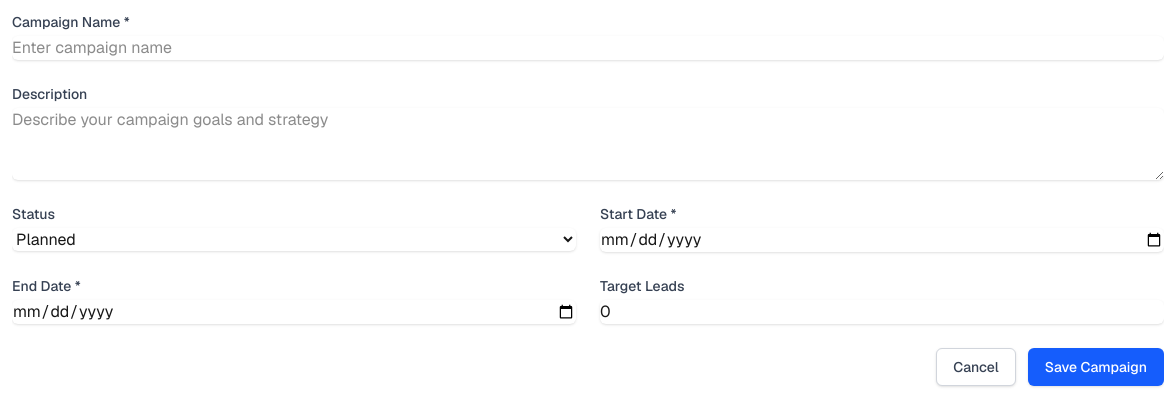
Scenario: CampaignForm › shows loading state during submission
This screenshot has width=1176, height=404.
Note: Fill in required fields
Type "Test Campaign" into the field labelled "Campaign Name *". click: point(588, 48)
box: [12,36,1164,60]
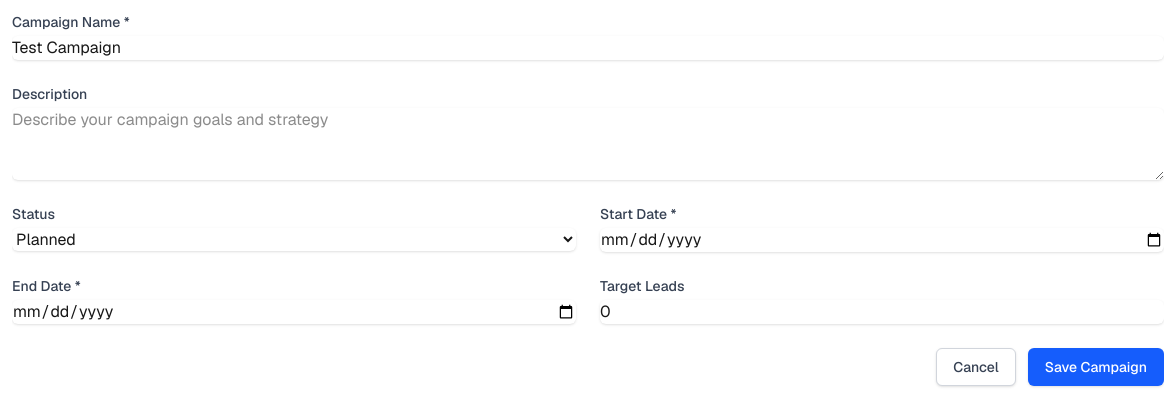
Type "2025-01-01" into the date field labelled "Start Date *". click: point(882, 240)
box: [600,228,1164,252]
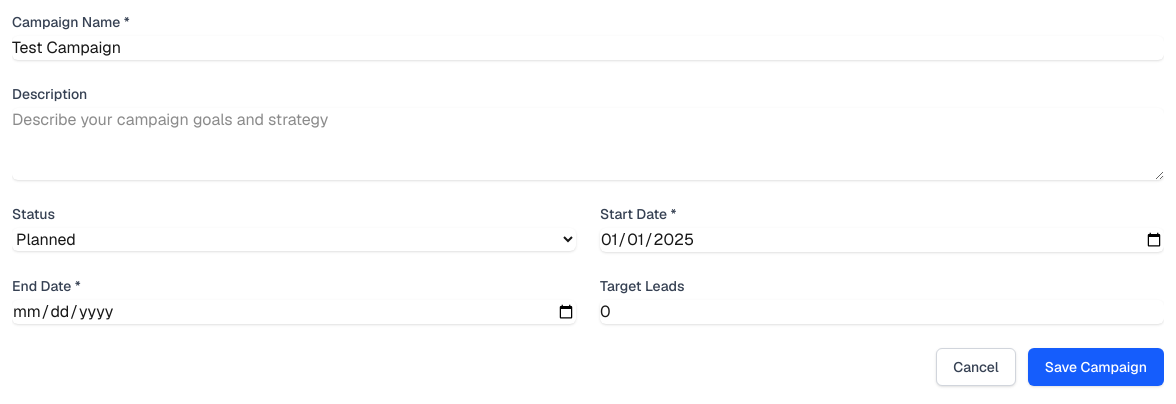
Type "2025-03-31" into the date field labelled "End Date *". click: point(294, 312)
box: [12,300,576,324]
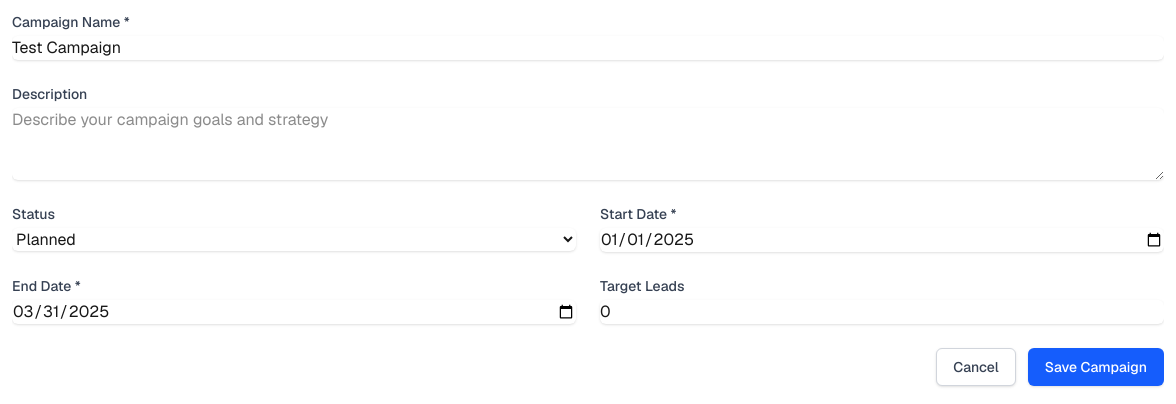
Submit the form with test id "campaign-form"
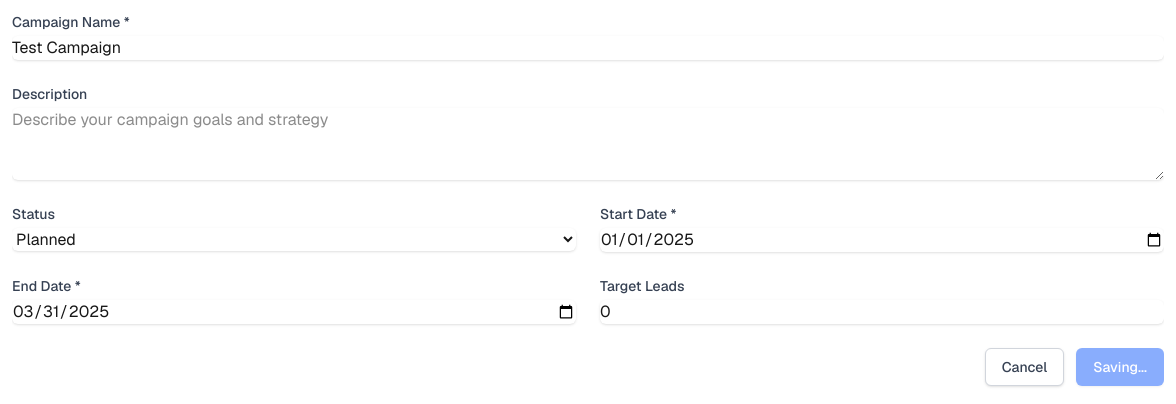
Expected: the button "Saving..." is disabled, [1076,348,1164,386]
